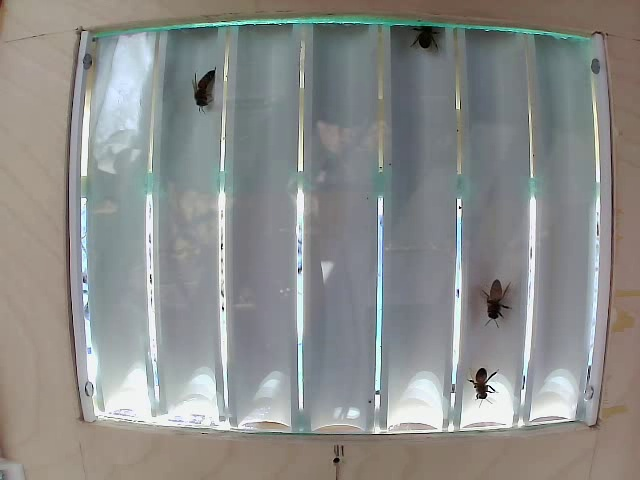bee: (184, 54, 231, 122), (452, 352, 500, 399), (414, 14, 450, 69), (474, 273, 513, 322)
